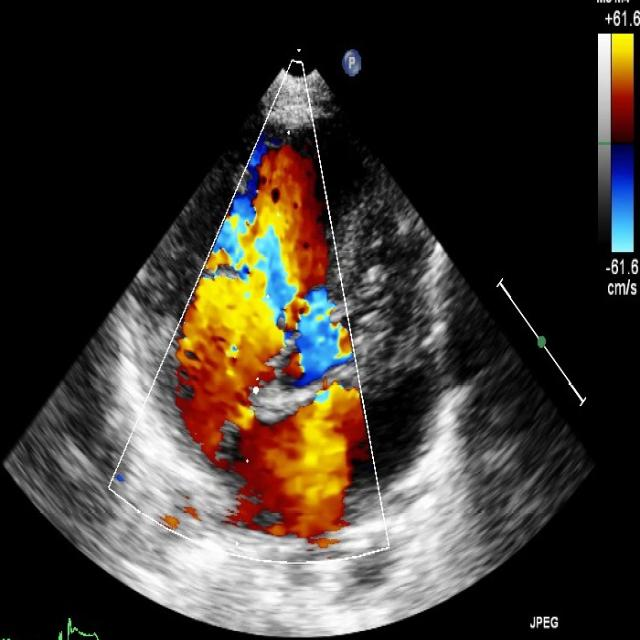VSDType2: (253, 270, 352, 376)
